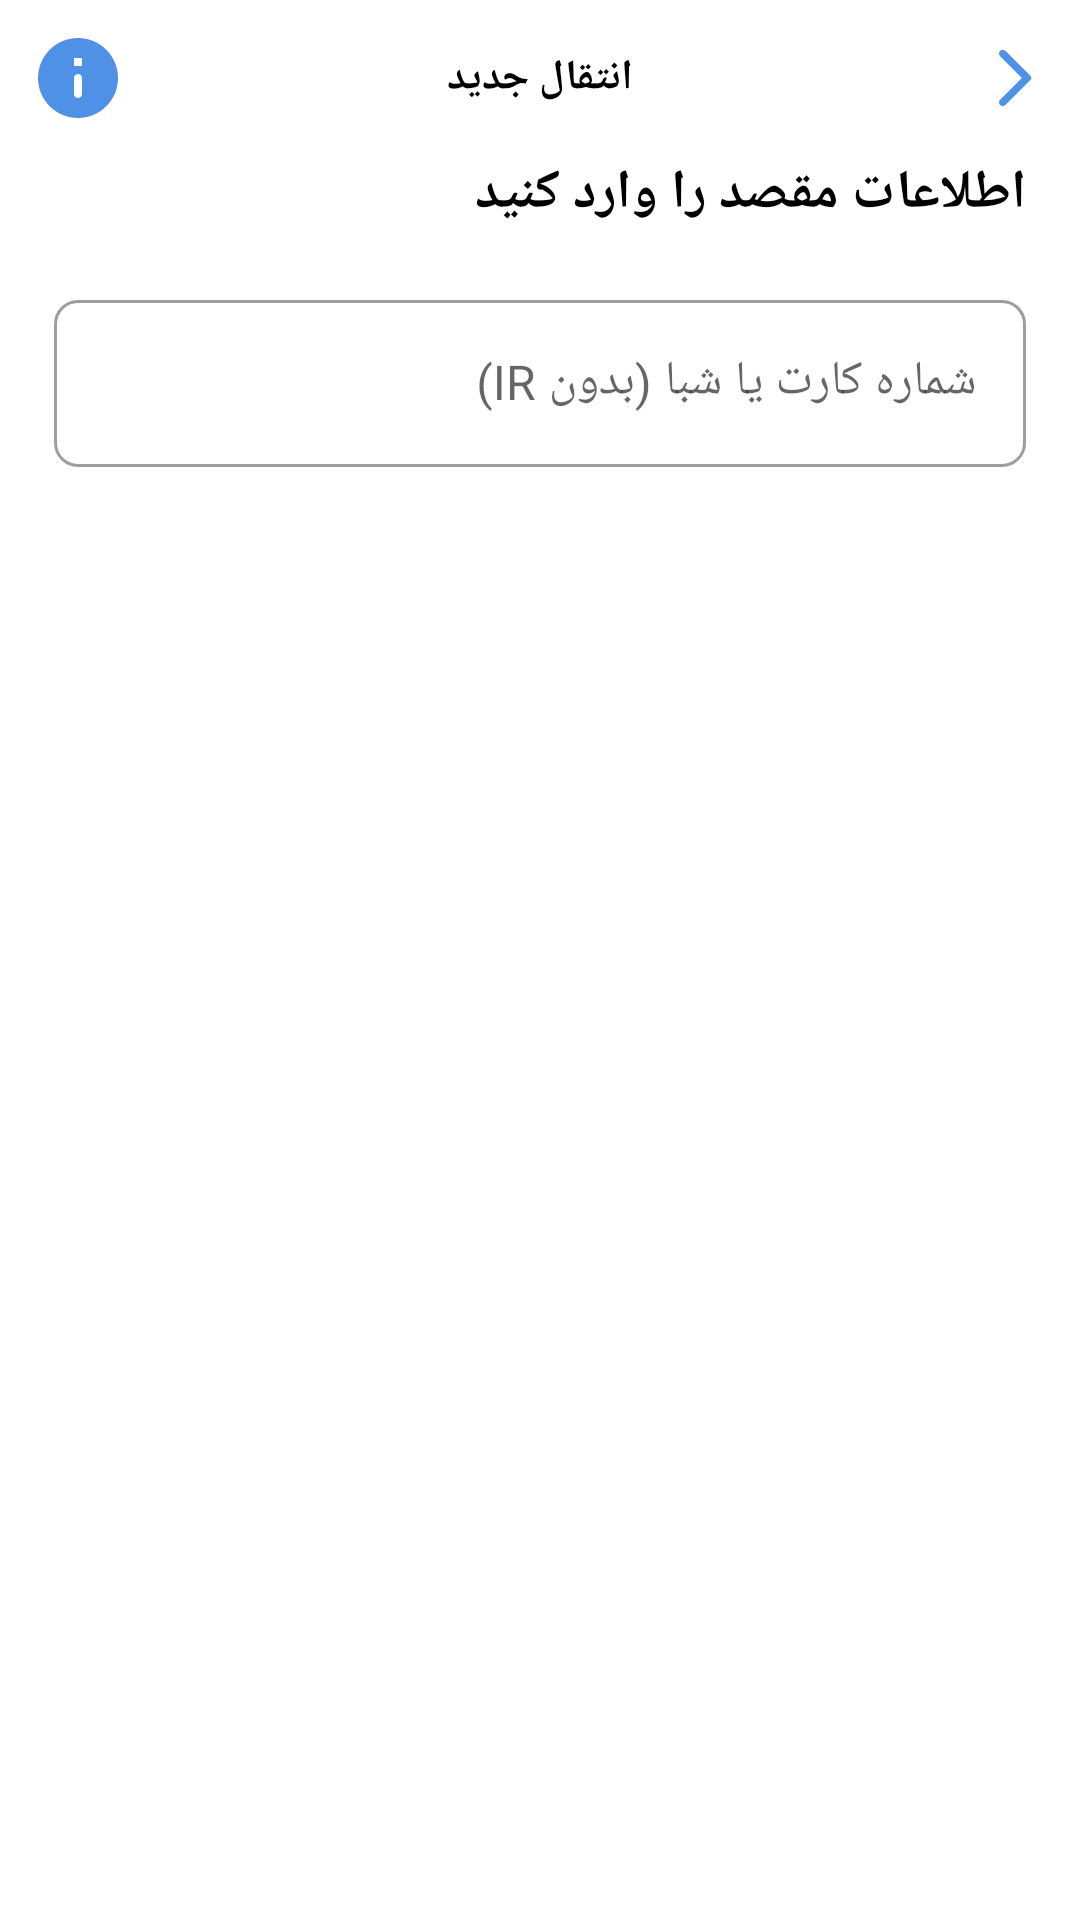

Icon click points for this 1080w x 1920h phone screenshot, format point (x, y):
info: point (78, 78)
